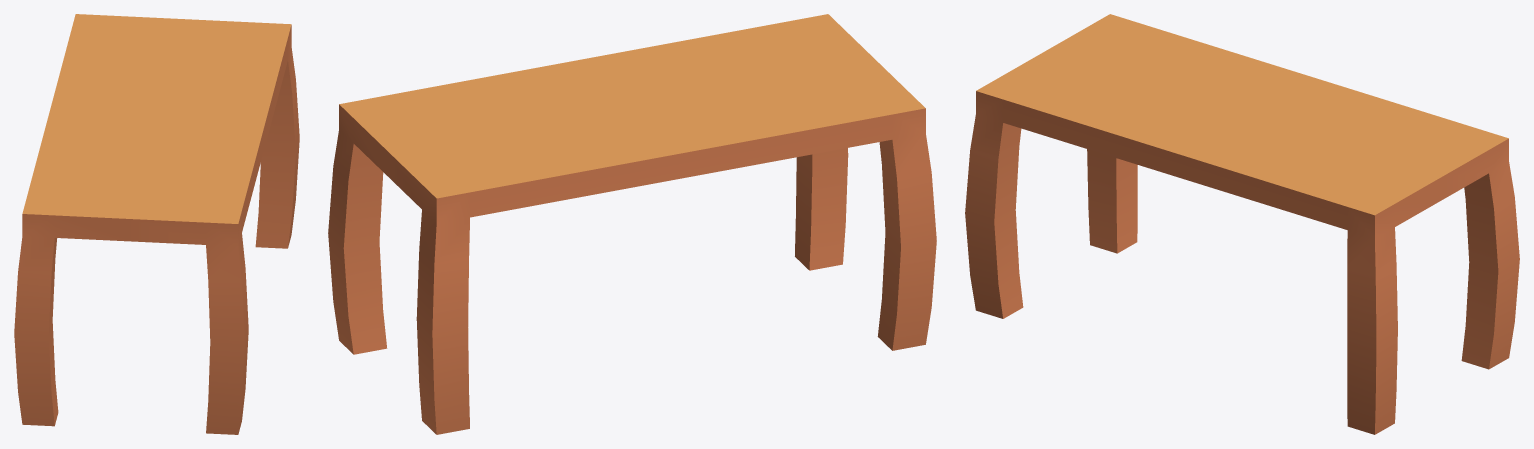
Rendered from Table.fbx.
3 renders of one model, left to right at view 1: azimuth 30°, elevation 25°; view 2: azimuth 150°, elevation 25°; view 3: azimuth 270°, elevation 25°, orthographic. The views are drawn at different scales.
Parts seen in each view (by area): view 1: Table; view 2: Table; view 3: Table.
Part boxes in pixels (x1,y1,x2,y2): Table: [14, 14, 299, 434]; Table: [328, 14, 936, 434]; Table: [965, 14, 1519, 434].
Bounding box in the file's own units: 0.0741 × 0.0361 × 0.0826.
Materials: 1 (1 with a texture image).
